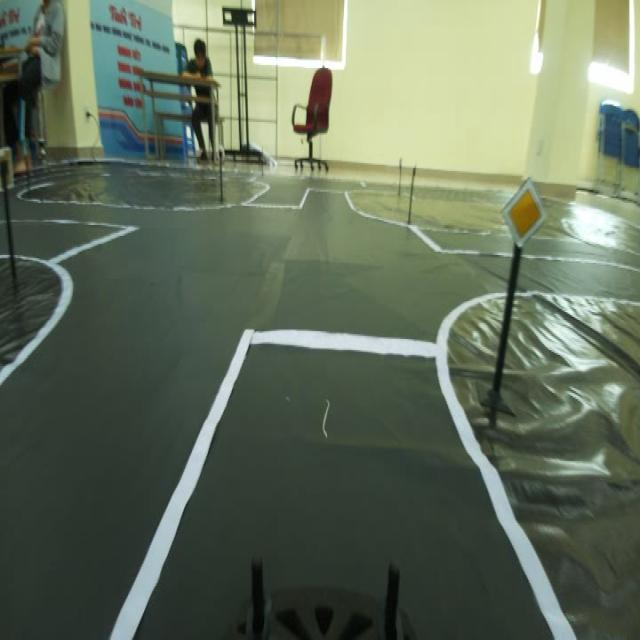priority: (501, 173, 552, 255)
